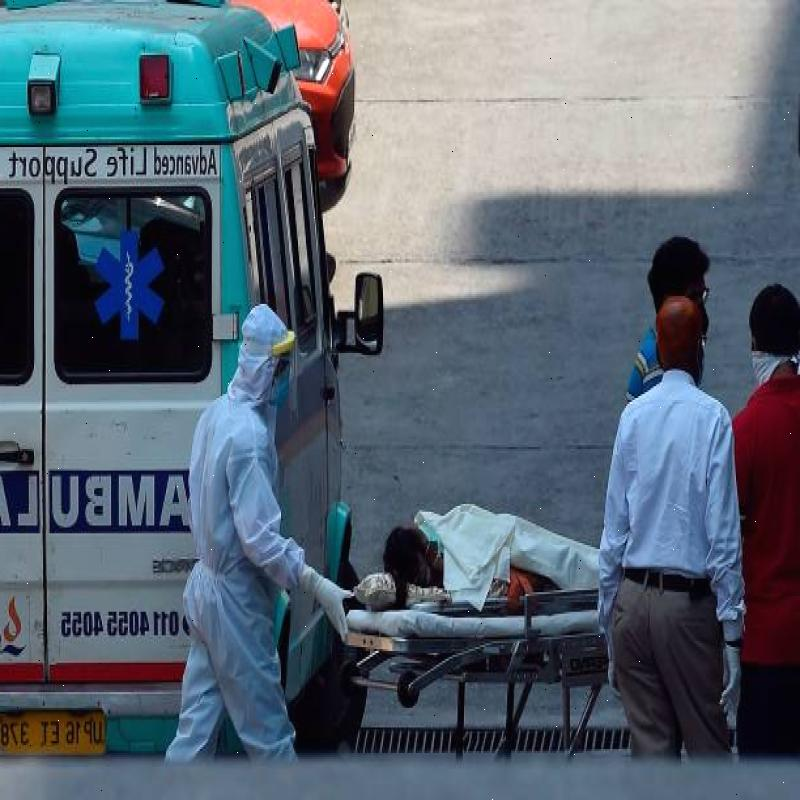ambulance: (3, 0, 349, 767)
